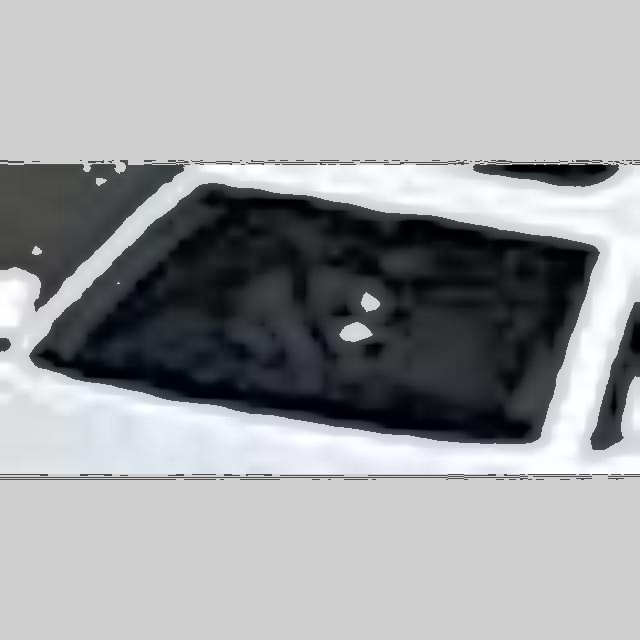pakai: (217, 227, 403, 371)
